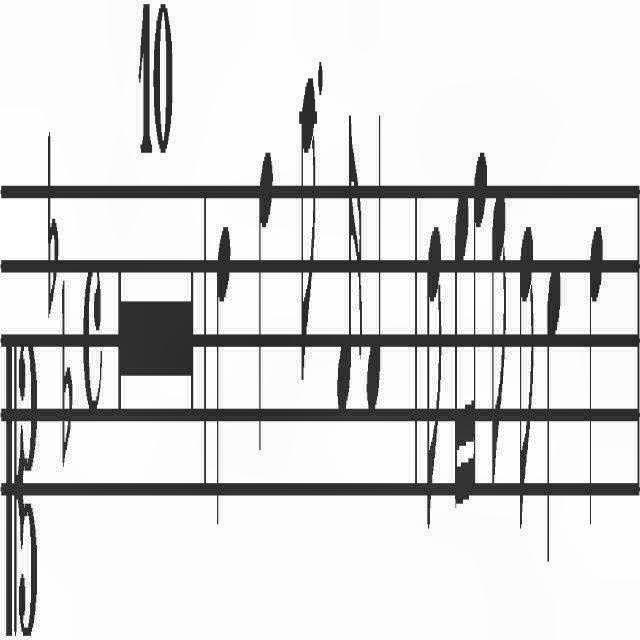Bemol: (46, 120, 58, 326), (62, 278, 74, 472)
Eighth-note: (490, 183, 508, 509), (299, 74, 317, 398), (425, 217, 443, 537), (518, 222, 536, 542)
Quarter-note: (544, 245, 564, 582), (365, 106, 385, 422), (587, 222, 605, 528), (213, 213, 230, 535), (258, 146, 274, 466)
Sixteenth-note: (336, 100, 362, 422), (468, 148, 488, 532), (454, 183, 468, 533)
